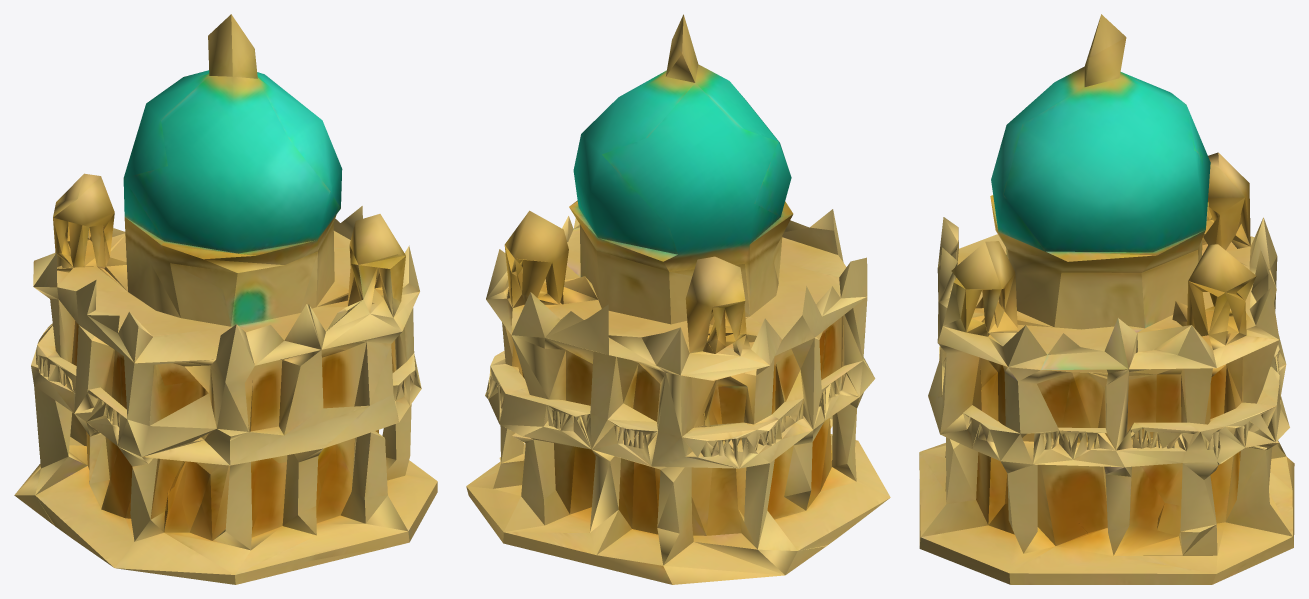
File: palaceTower.glb
3 renders of one model, left to right at view 1: azimuth 30°, elevation 25°; view 2: azimuth 150°, elevation 25°; view 3: azimuth 270°, elevation 25°, orthographic. The views are drawn at different scales.
Parts seen in each view (by area): view 1: model; view 2: model; view 3: model.
Boxes of the visible parts, x1=… form: model: x1=14, y1=14, x2=437, y2=584; model: x1=466, y1=14, x2=890, y2=584; model: x1=919, y1=14, x2=1294, y2=584.
Bounding box in the file's own units: 1.31 × 1.87 × 1.29.
1 material, 1 textured.
